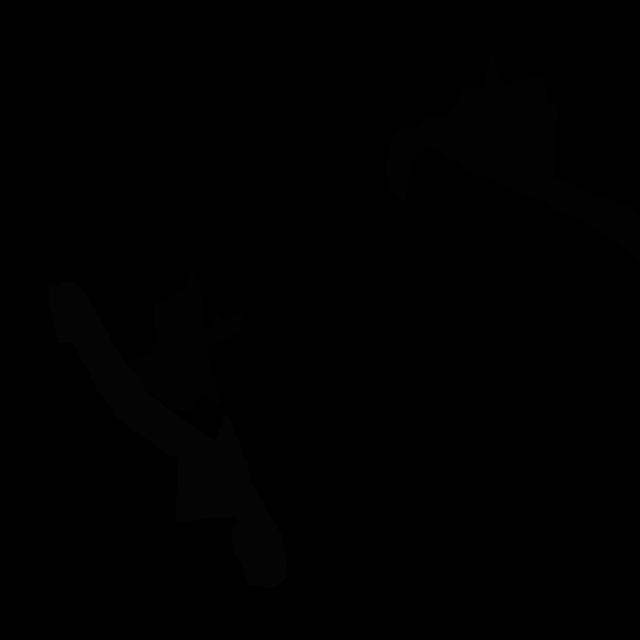cardboard: (387, 56, 640, 264), (127, 270, 244, 412)
soft_plastic: (48, 282, 287, 588)
